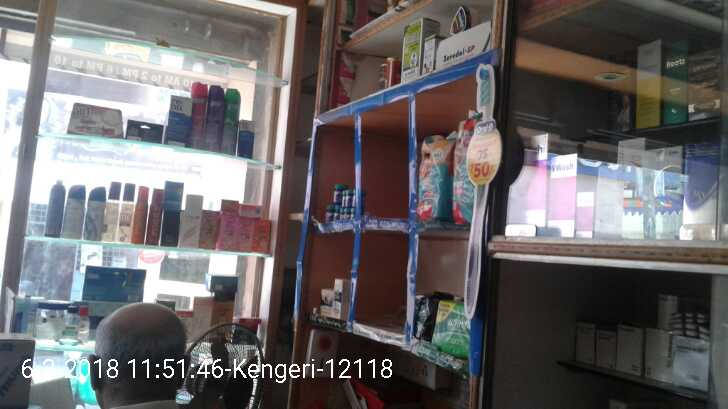pharmacy: (453, 121, 479, 239), (419, 129, 450, 227), (432, 298, 476, 354), (318, 181, 358, 225)
